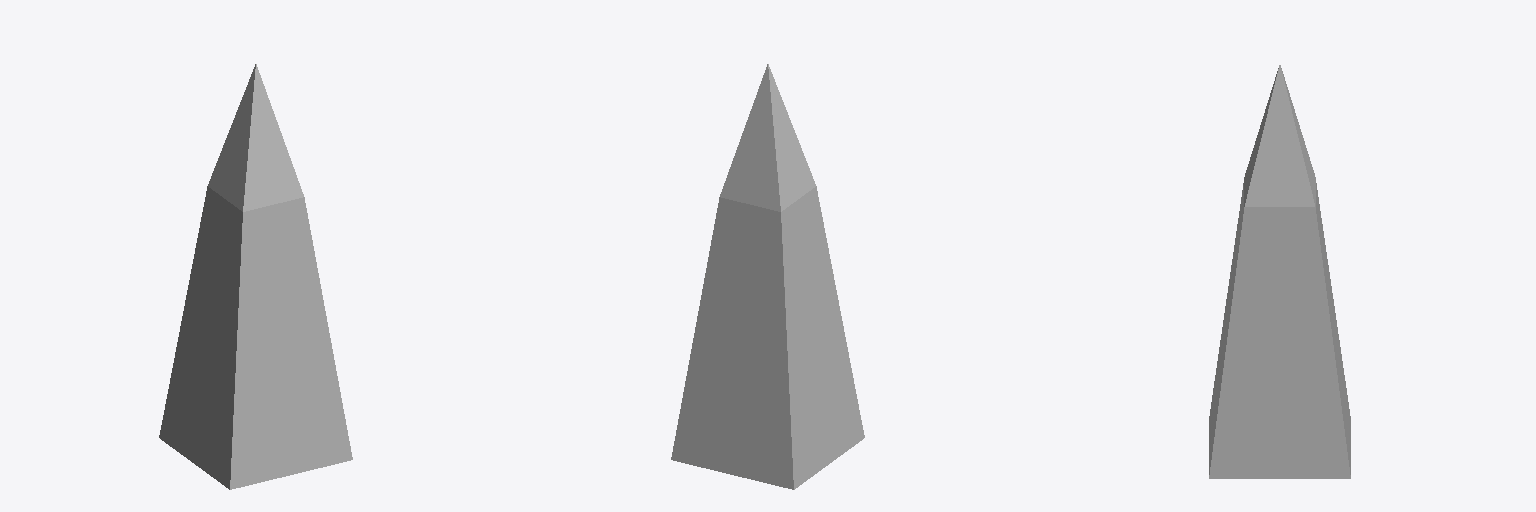
Rendered from skeletal_000000.obj.
The picture shows the model from 3 angles: view 1: azimuth 30°, elevation 25°; view 2: azimuth 150°, elevation 25°; view 3: azimuth 270°, elevation 25°; orthographic projection.
Parts seen in each view (by area): view 1: Cube; view 2: Cube; view 3: Cube.
Boxes of the visible parts, <box> form: Cube: <box>159,64,352,489</box>; Cube: <box>671,64,864,489</box>; Cube: <box>1209,65,1350,478</box>.
Bounding box in the file's own units: 2 × 6 × 2.